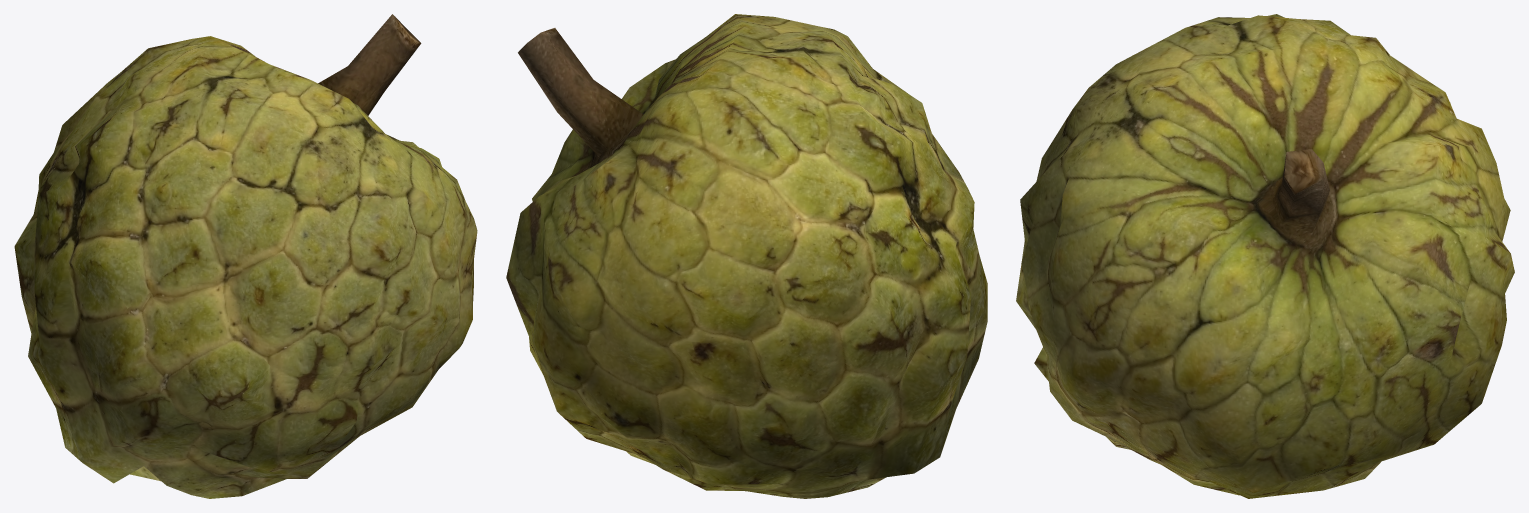
Rendered from A138_Custard_Apple_low.fbx.
The picture shows the model from 3 angles, left to right: view 1: azimuth 30°, elevation 25°; view 2: azimuth 150°, elevation 25°; view 3: azimuth 270°, elevation 25°; orthographic projection. The views are drawn at different scales.
Parts seen in each view (by area): view 1: A138_Custard_Apple_low; view 2: A138_Custard_Apple_low; view 3: A138_Custard_Apple_low.
Boxes of the visible parts, x1,y1,x2,y2 form: A138_Custard_Apple_low: (14, 14, 477, 498); A138_Custard_Apple_low: (506, 14, 987, 498); A138_Custard_Apple_low: (1016, 14, 1514, 498).
Size of the model in its own units: 4.42 by 4.29 by 4.25.
Materials: 1 (1 with a texture image).
